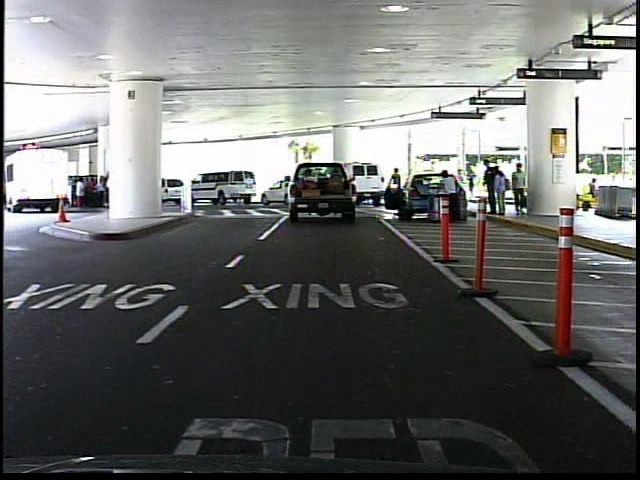person: (437, 163, 461, 222), (508, 159, 530, 216), (388, 165, 406, 209)
